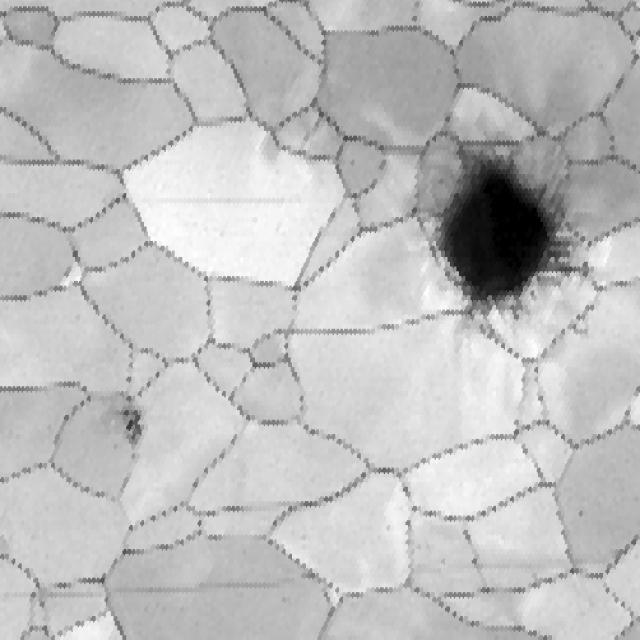good_void: (418, 133, 595, 330), (110, 398, 150, 460), (385, 522, 393, 534), (440, 557, 447, 568), (578, 507, 584, 519)
